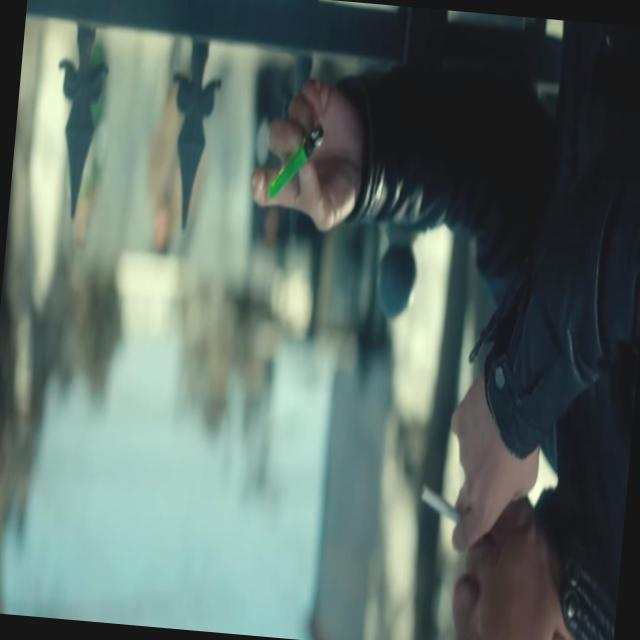smoke: (415, 478, 467, 530)
